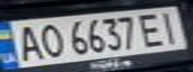3: (103, 16, 124, 52)
6: (63, 17, 90, 56), (84, 16, 106, 54)
7: (115, 12, 142, 50)
A: (9, 23, 45, 62)
E: (136, 10, 169, 47)
I: (154, 8, 184, 45)
O: (33, 20, 66, 60)
